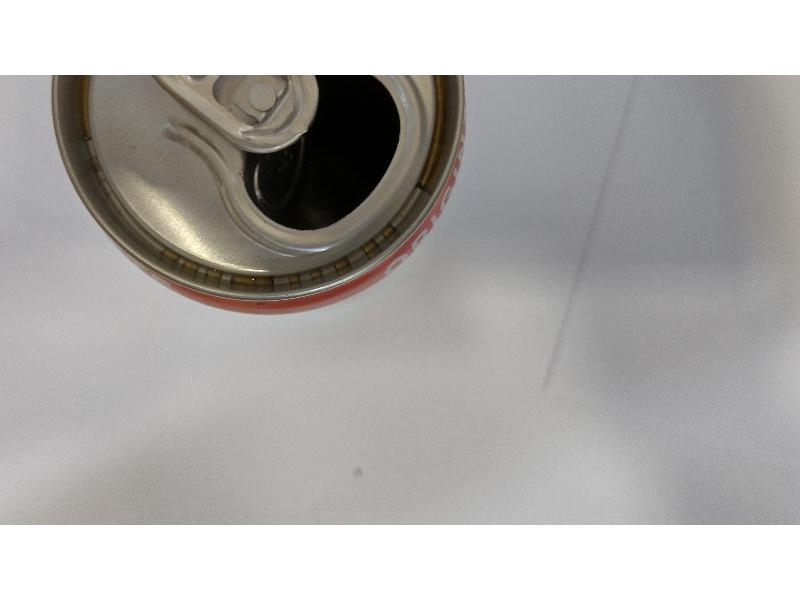can: (54, 76, 470, 316)
